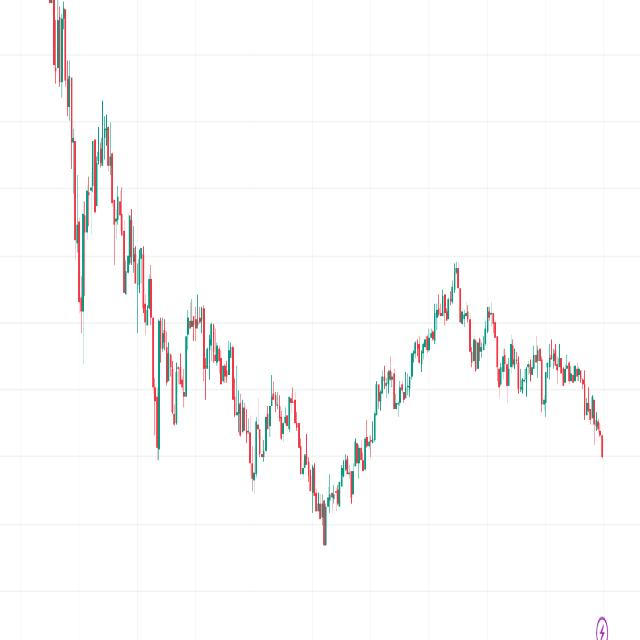Channel-down: (77, 60, 202, 522)
Rounding-Bottom: (190, 259, 458, 562)
